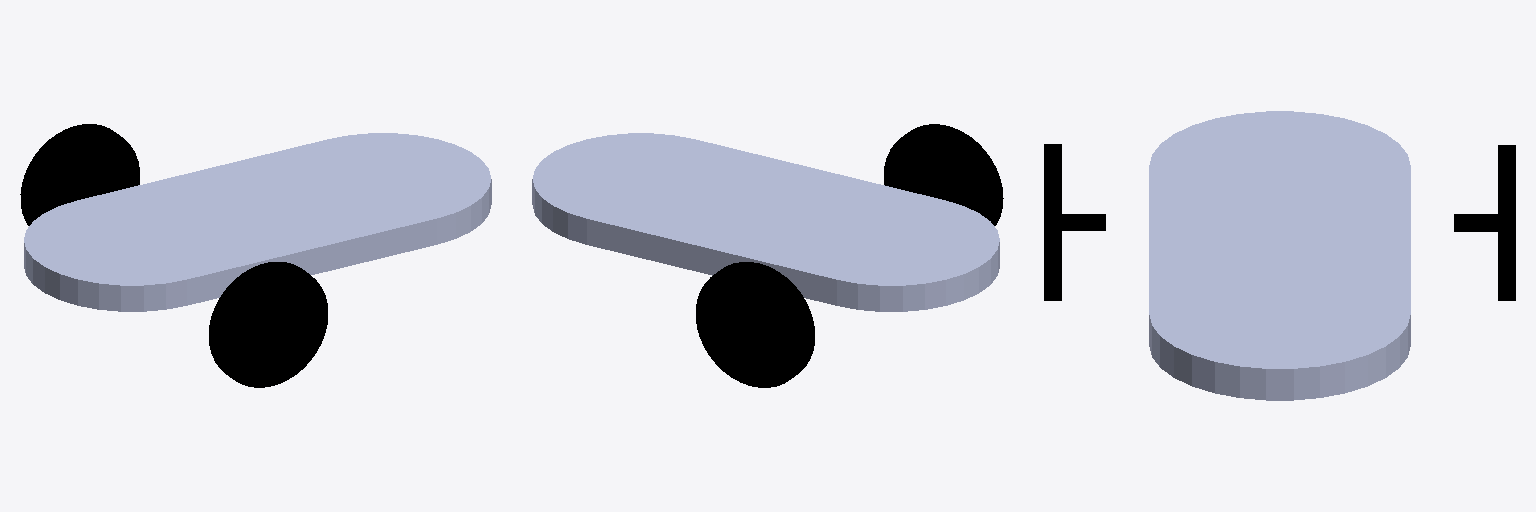
robot.urdf — diffbot:
<?xml version="1.0" ?>
<!-- This URDF was automatically created by SolidWorks to URDF Exporter! Originally created by [author] ([email redacted]) 
     Commit Version: 1.6.0-1-g15f4949  Build Version: 1.6.7594.29634
     For more information, please see http://wiki.ros.org/sw_urdf_exporter -->
<robot name="diffbot">
  <link name="base_link">
    <origin xyz="0 0 0" rpy="0 0 0" />
    <visual>
      <geometry>
        <mesh filename="package://diffbot/meshes/base_link.STL" />
      </geometry>
      <material name="">
        <color rgba="0.79216 0.81961 0.93333 1" />
      </material>
    </visual>
  </link>

  <link name="linkleft">
    <origin xyz="0 0 0" rpy="0 0 0" />
    <visual>
      <geometry>
        <mesh filename="package://diffbot/meshes/linkleft.STL" />
      </geometry>
      <material name="">
        <color rgba="0 0 0 1" />
      </material>
    </visual>
  </link>

  <joint name="jointleft" type="continuous">
    <parent link="base_link" />
    <child link="linkleft" />
    <origin xyz="-0.13287 0.27 -0.04" rpy="0 0 0" />
    <axis xyz="0 -1 0" />
  </joint>

  <link name="linkright">
    <origin xyz="0 0 0" rpy="0 0 0" />
    <visual>
      <geometry>
        <mesh filename="package://diffbot/meshes/linkright.STL" />
      </geometry>
      <material name="">
        <color rgba="0 0 0 1" />
      </material>
    </visual>
  </link>

  <joint name="jointright" type="continuous">
    <parent link="base_link" />
    <child link="linkright" />
    <origin xyz="-0.13287 -0.27 -0.04" rpy="0 0 0" />
    <axis xyz="0 -1 0" />
  </joint>

</robot>

--- What the picture shows (computed from the rendered views, not written in the file) ---
Views: 3 orthographic renders of the robot side by side, from view 1: azimuth 30°, elevation 25°; view 2: azimuth 150°, elevation 25°; view 3: azimuth 270°, elevation 25°.
Robot: diffbot — 3 links, 2 joints (2 continuous); root link base_link; default pose: all joints at 0.
Visible links, largest first — view 1: base_link, linkright, linkleft; view 2: base_link, linkleft, linkright; view 3: base_link, linkleft, linkright.
Boxes of the visible links, box(x1,y1,x2,y2) form: base_link: box(24, 133, 491, 311); linkright: box(209, 262, 327, 387); linkleft: box(20, 124, 139, 225); base_link: box(532, 133, 999, 311); linkleft: box(696, 262, 814, 387); linkright: box(884, 124, 1003, 225); base_link: box(1149, 111, 1410, 400); linkleft: box(1454, 145, 1515, 300); linkright: box(1044, 144, 1105, 300).
Size in the robot's own frame: 0.6984 by 0.54 by 0.18 metres.
Meshes: 3 distinct files referenced, 3 mesh visuals loaded (3 binary STL).